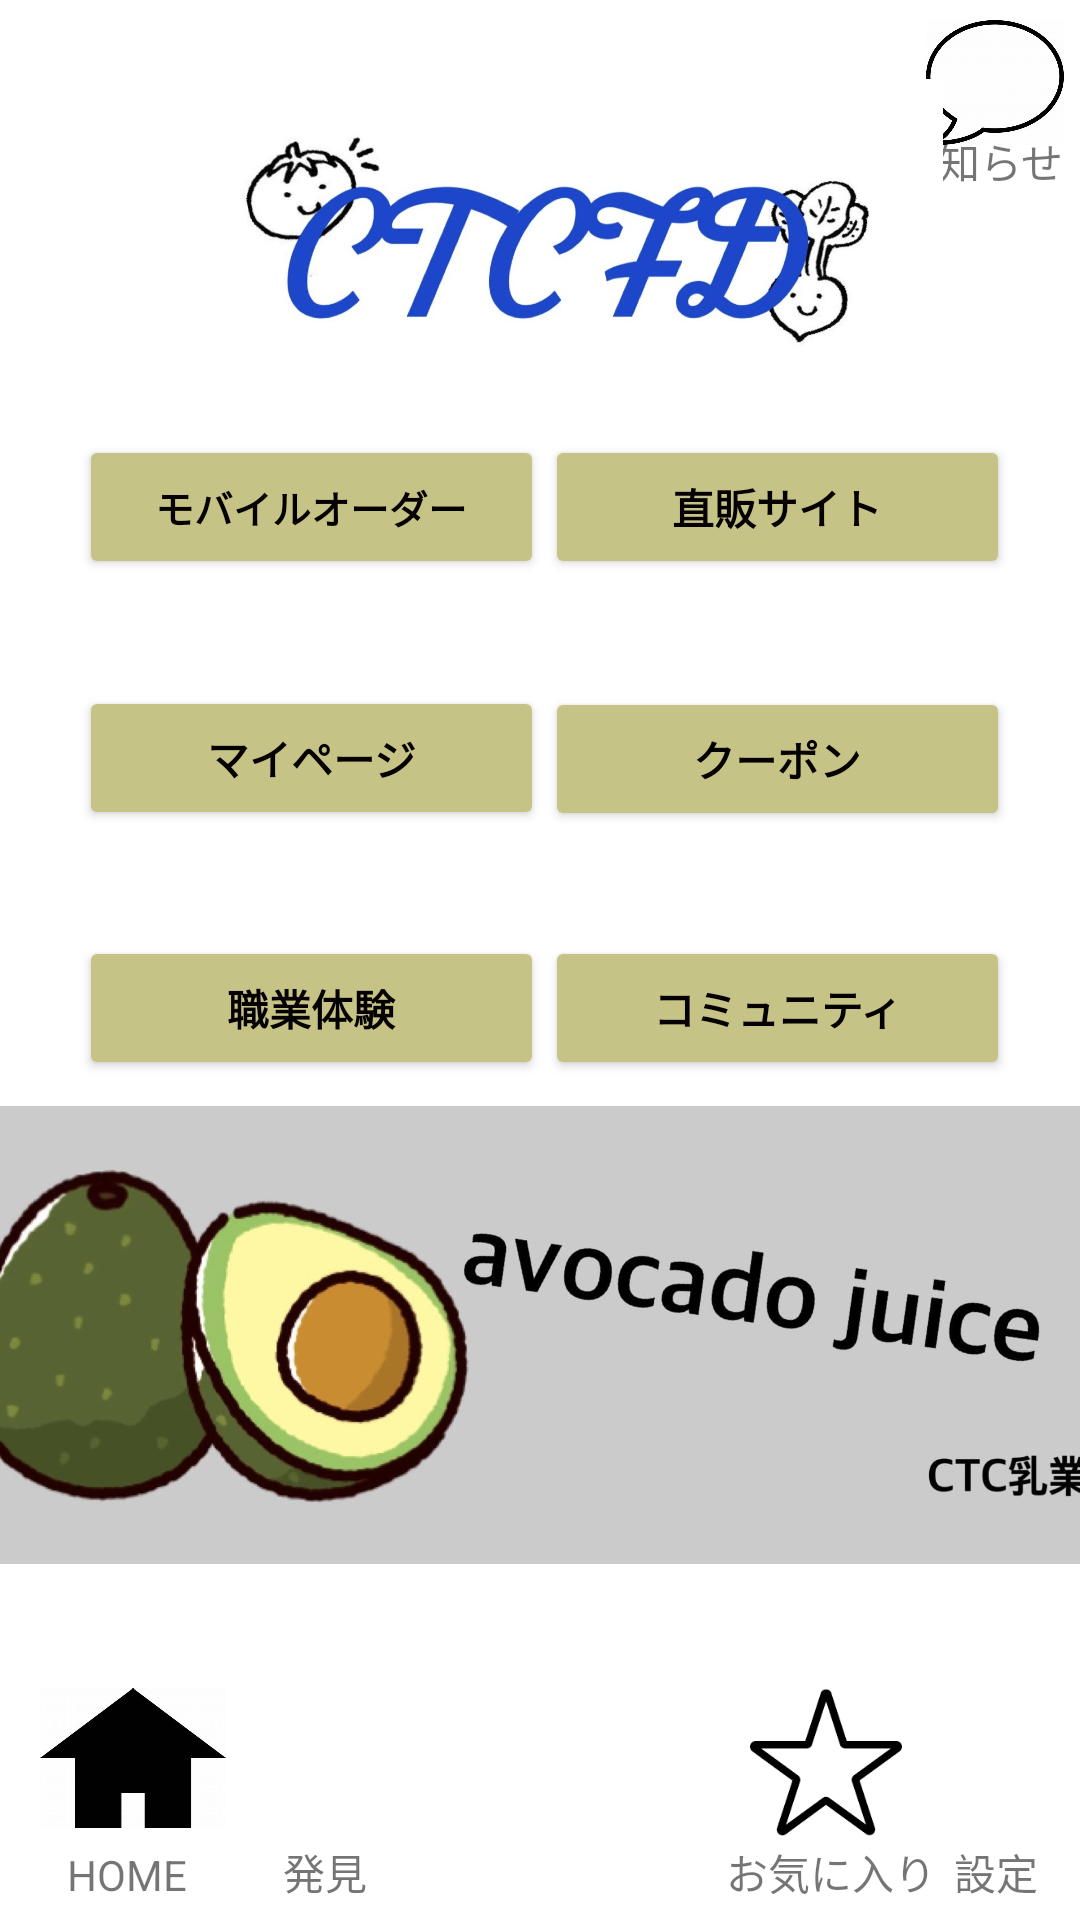

Icon bounding boxes for this 1080px×1920px phone screenshot, format (x1, y1, x2, y2):
huki: (926, 20, 1064, 147)
star: (750, 1689, 902, 1836)
